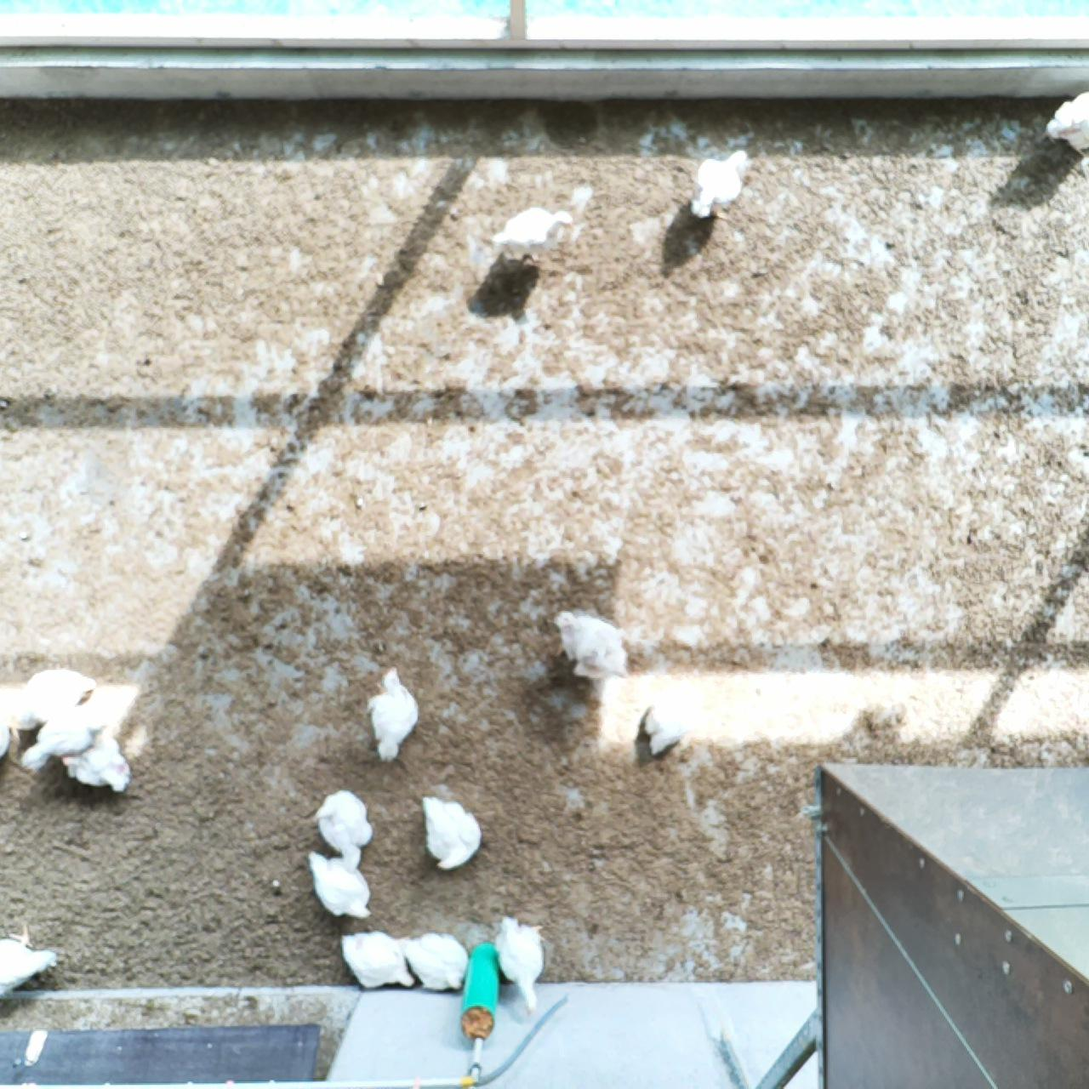chicken: (491, 911, 553, 1017), (552, 606, 633, 683), (17, 704, 105, 774), (489, 202, 578, 270), (364, 664, 422, 764), (416, 790, 486, 872), (313, 786, 378, 874), (302, 848, 376, 923), (685, 144, 755, 221), (336, 928, 417, 990), (9, 666, 95, 724), (62, 730, 134, 797), (0, 921, 60, 998), (399, 931, 471, 995), (641, 683, 700, 759), (1043, 85, 1089, 157)
